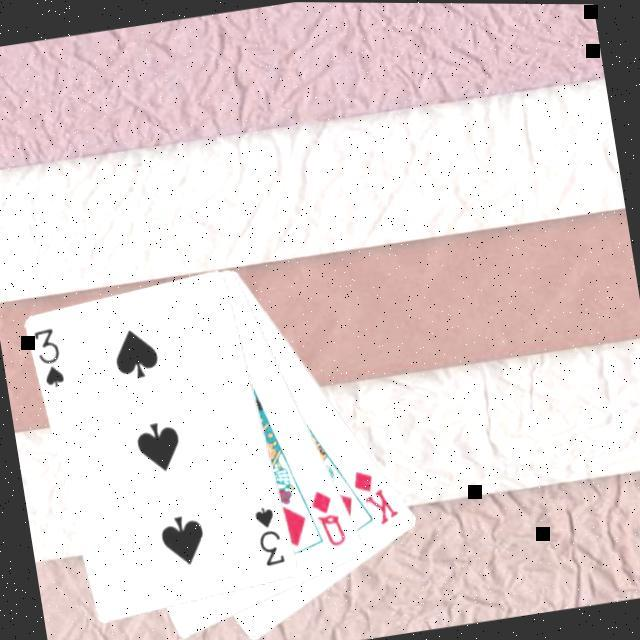3S: (29, 326, 68, 394), (250, 504, 288, 572)
KD: (347, 463, 402, 533)
QD: (304, 486, 350, 554)
